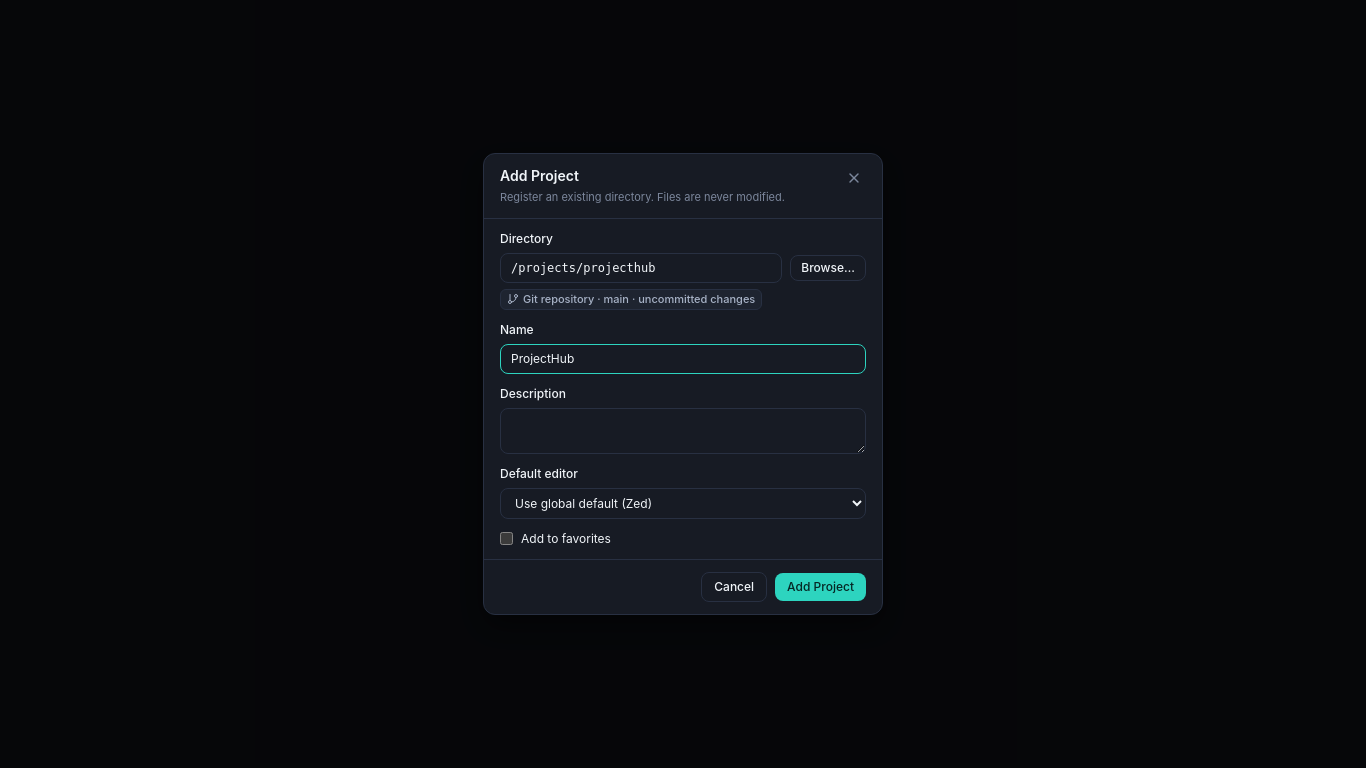
ProjectDialog › displays Browse failures inline without closing
Click the button "Browse…" at x=828, y=268, box [790,255,866,281]
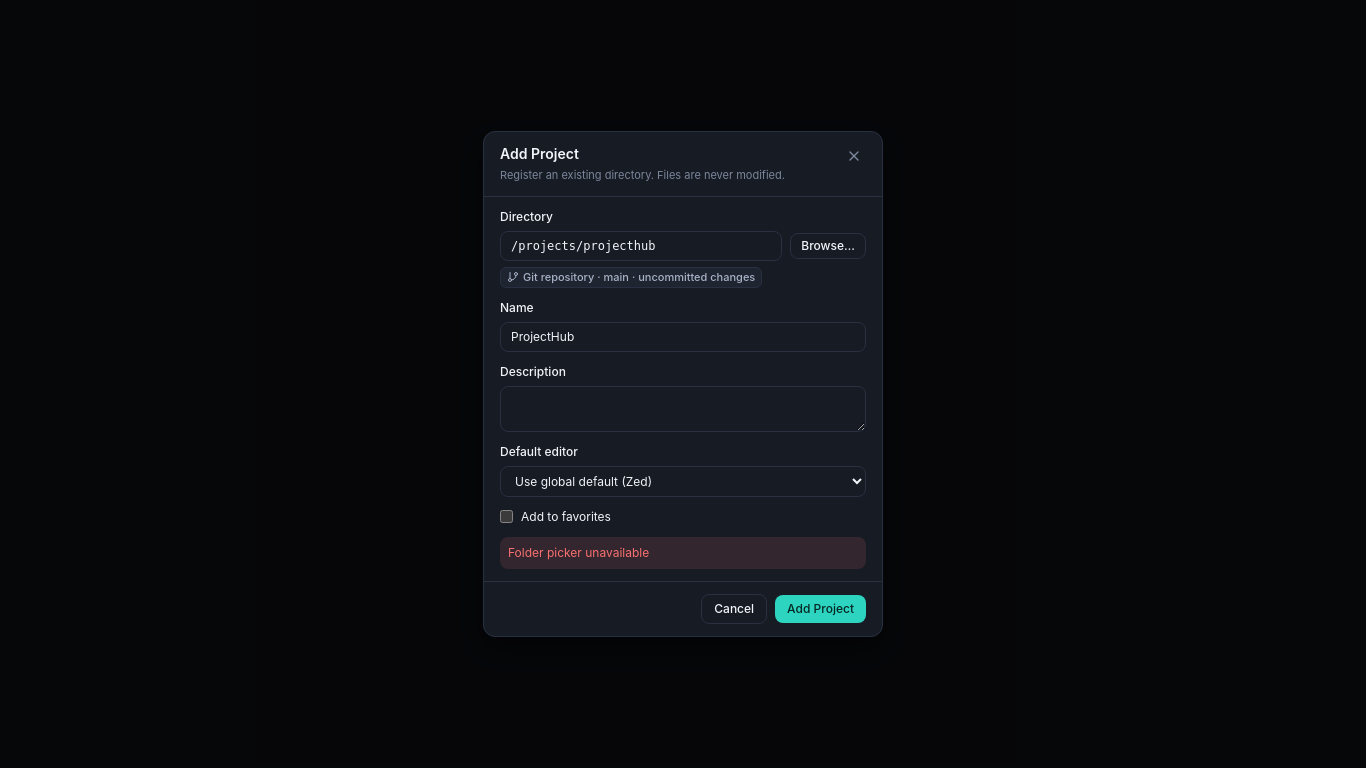
Now the message "Folder picker unavailable" is shown, box [500,537,866,569]
